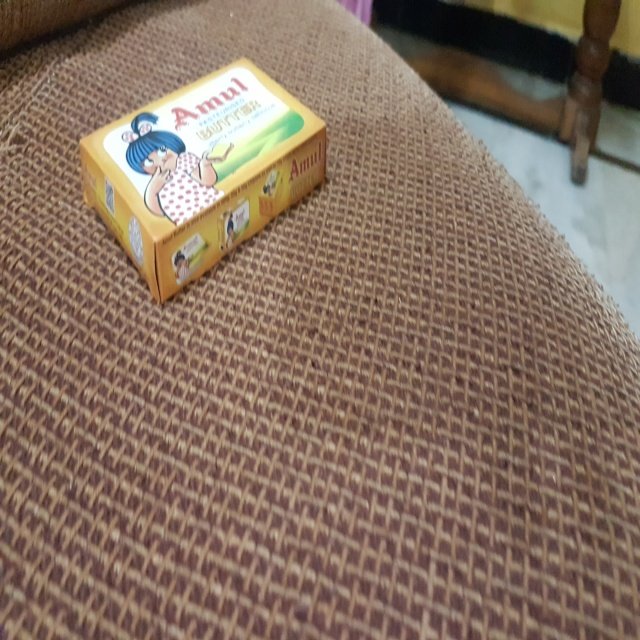butter: (77, 54, 333, 305)
